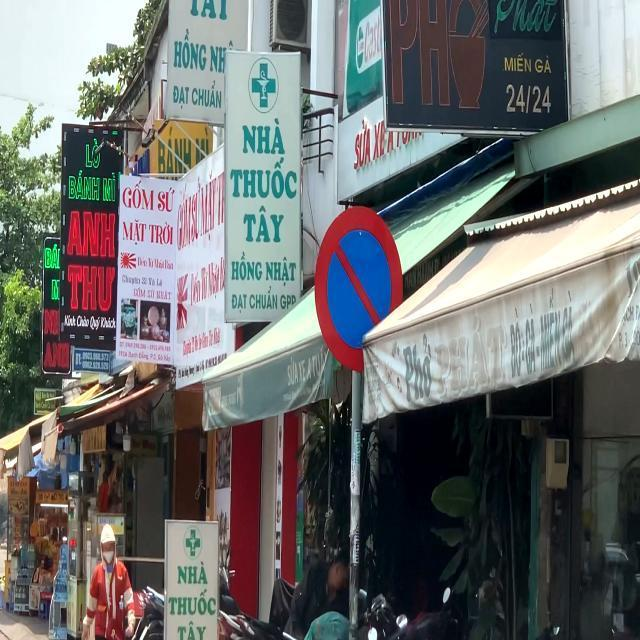131a-cam-do-xe: (315, 206, 403, 372)
